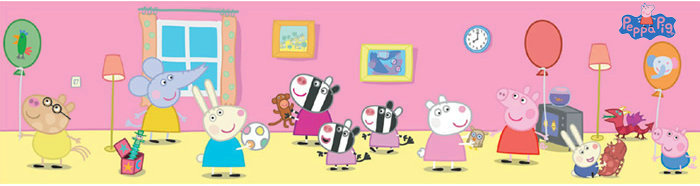Peppa: (490, 86, 549, 167)
